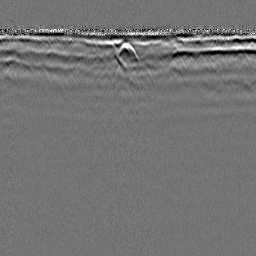cavity: (117, 40, 139, 61)
